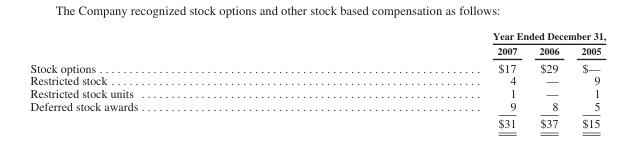table: (29, 29, 605, 129)
table column: (29, 29, 314, 129), (314, 29, 527, 129), (527, 29, 569, 129), (569, 29, 605, 129)
table column header: (29, 29, 605, 58)
table row: (29, 42, 605, 58), (29, 58, 605, 73), (29, 99, 605, 114), (29, 114, 605, 129), (29, 29, 605, 42), (29, 73, 605, 86), (29, 86, 605, 99)
table spanning cell: (314, 29, 605, 42)
